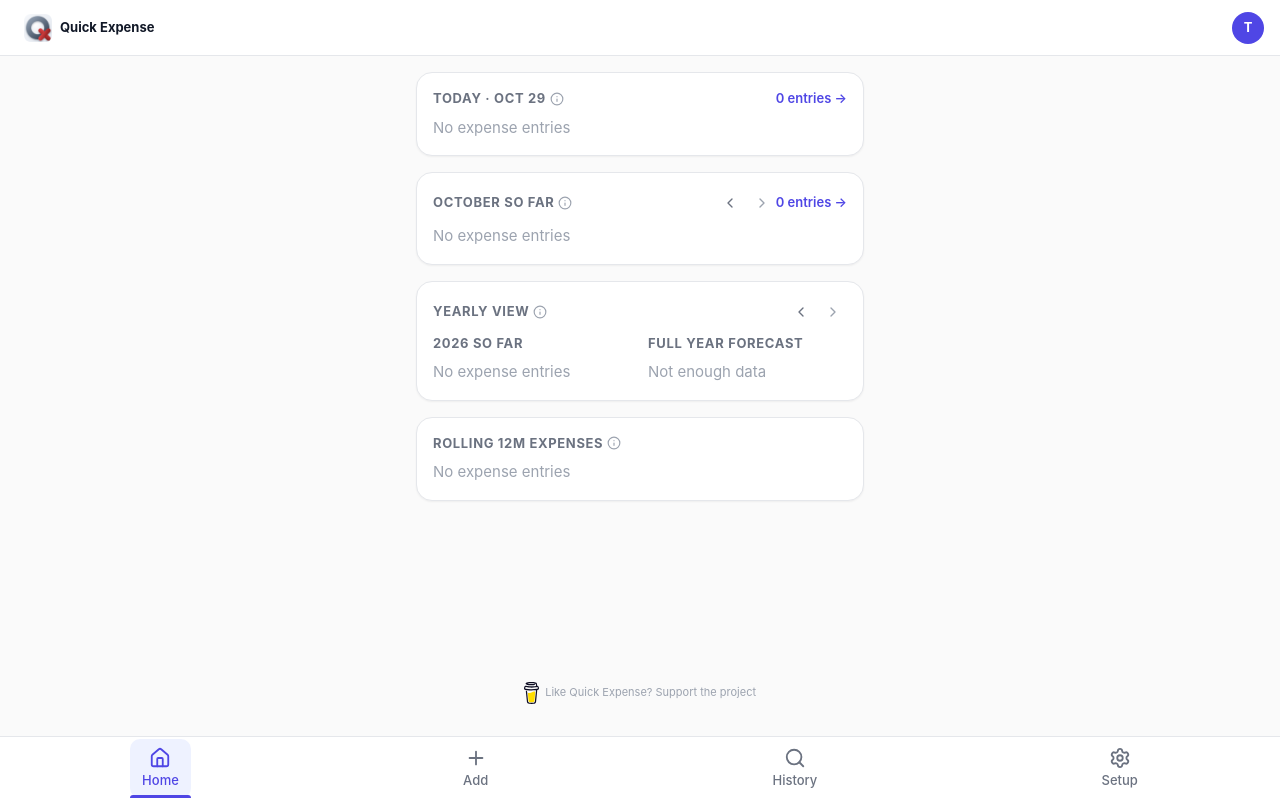
Scenario: HomePage — widget info tooltips › toggles each widget's popover independently — opening one does not close another
Click the button named "Show info about TODAY": (557, 99) [550,92,564,106]
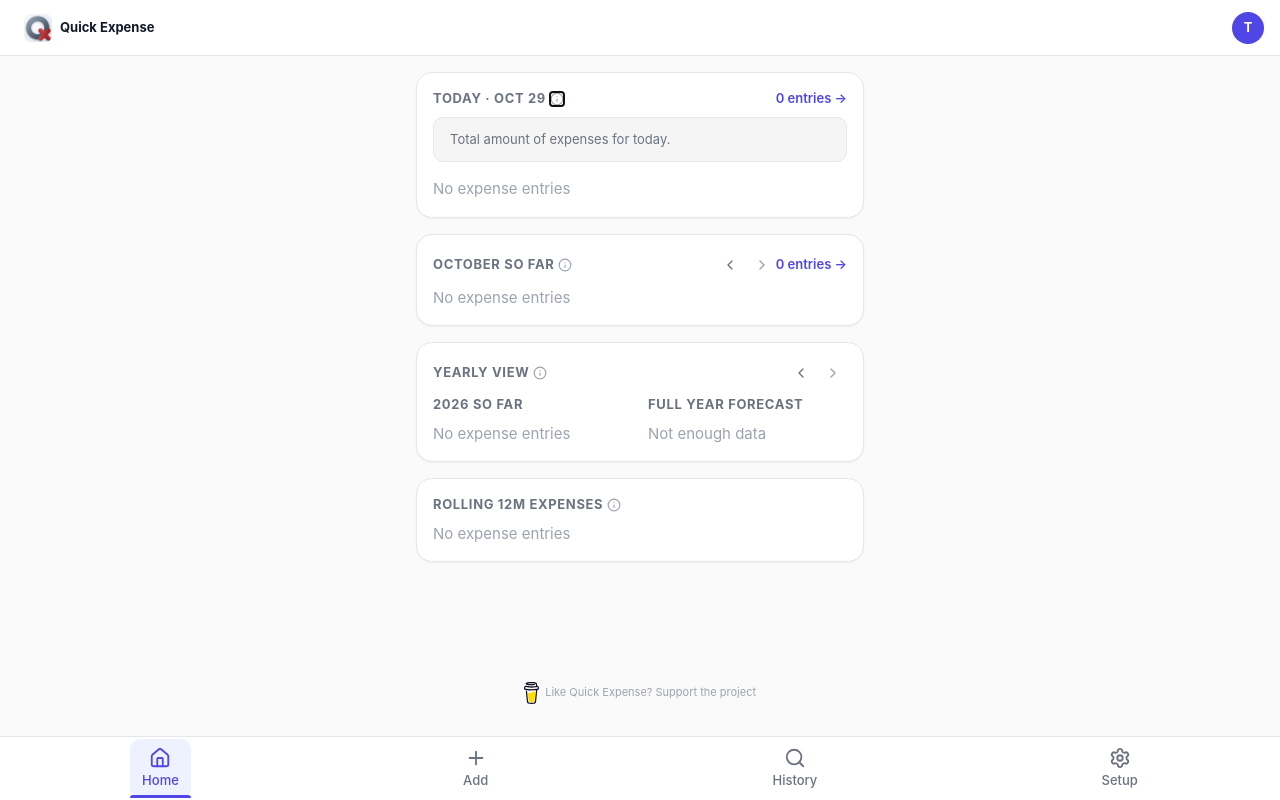
Click the button named "Show info about ROLLING 12M EXPENSES": (614, 505) [607,498,621,512]
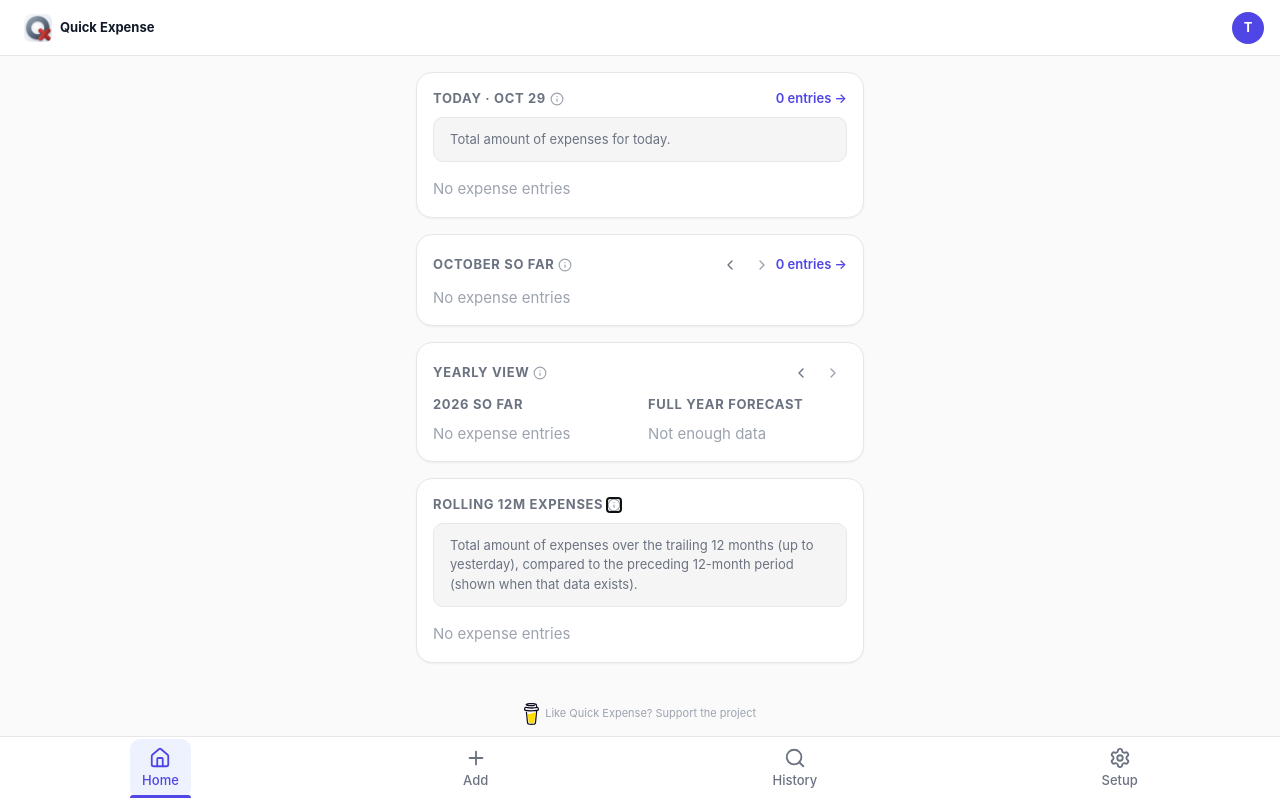
Now the text "Total amount of expenses for today." is shown, box [433,116,847,162]
Now the text "Total amount of expenses over the trailing 12 months (up to yesterday), compared to the preceding 12-month period (shown" is shown, box [450,536,813,592]
Click the button named "Hide info about TODAY": (557, 99) [550,92,564,106]
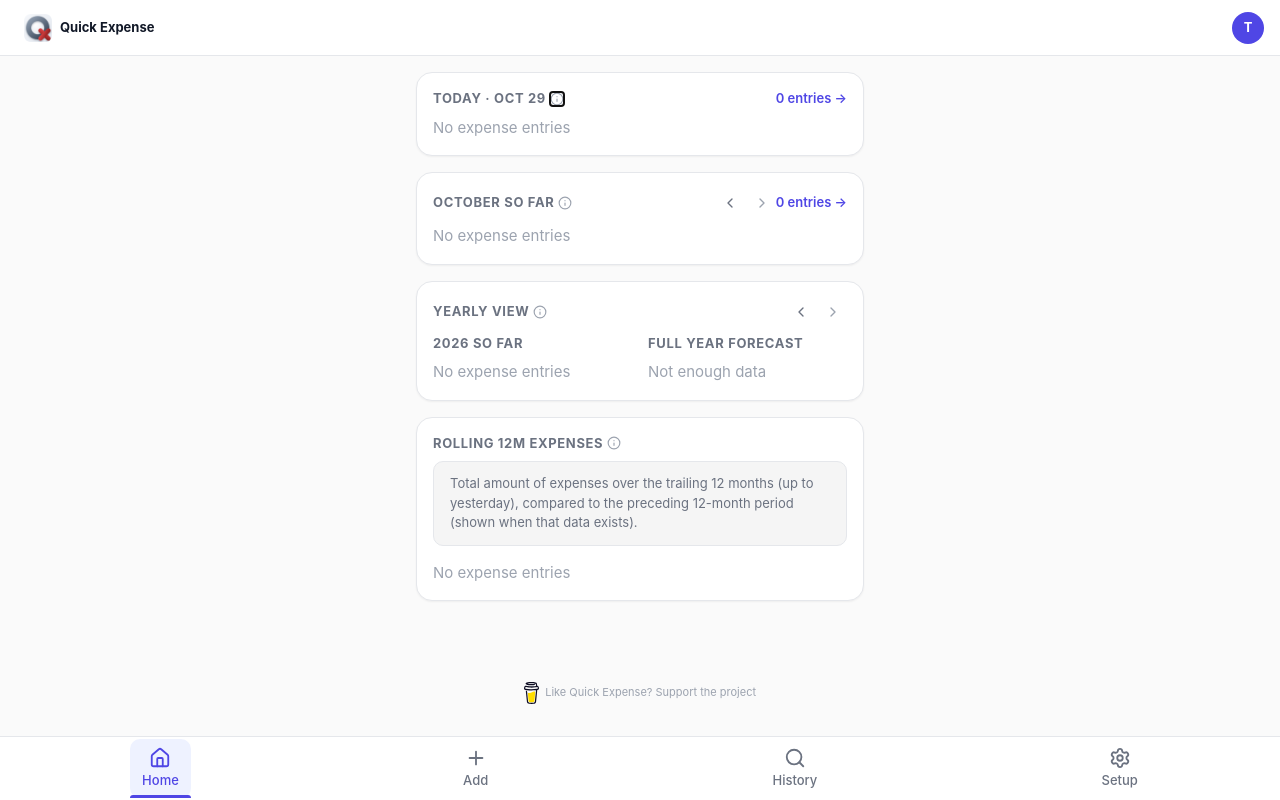
Now the text "Total amount of expenses over the trailing 12 months (up to yesterday), compared to the preceding 12-month period (shown" is shown, box [450,475,813,530]
Now the text "Total amount of expenses for today." is gone
